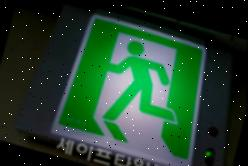emergency_exit: (49, 13, 207, 166)
